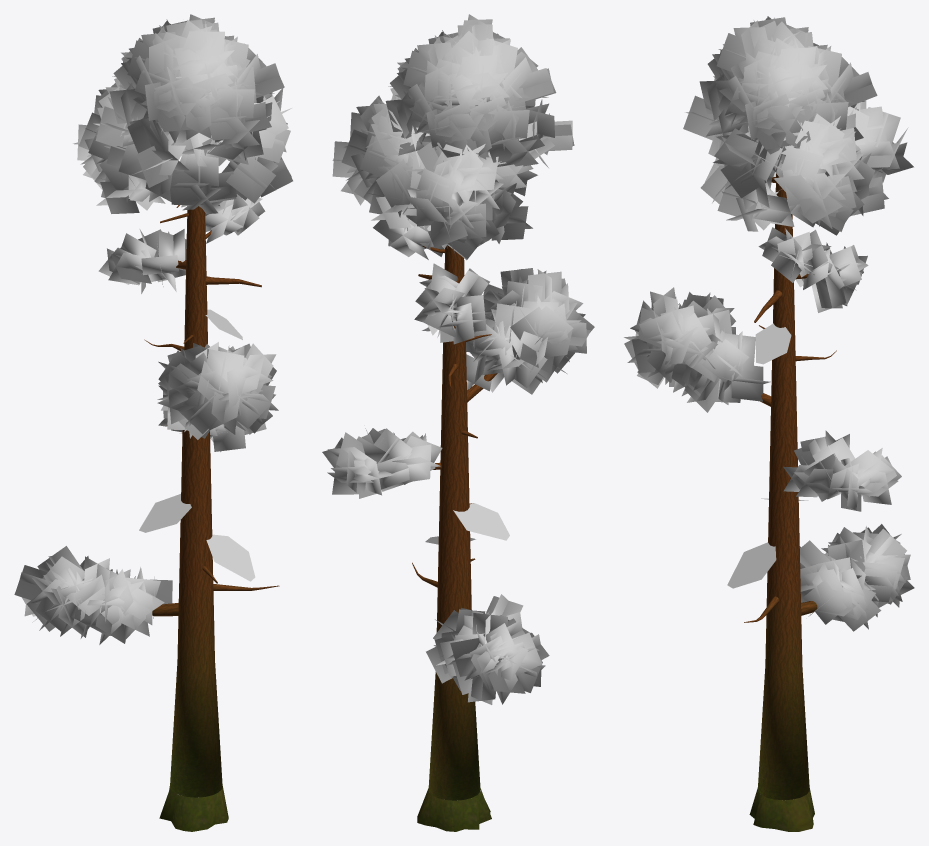
File: BigTree_CutVersion_01.fbx
3 renders of one model, left to right at view 1: azimuth 30°, elevation 25°; view 2: azimuth 150°, elevation 25°; view 3: azimuth 270°, elevation 25°, orthographic.
Parts seen in each view (by area): view 1: LeafPart, WoodPart.001; view 2: LeafPart, WoodPart.001; view 3: LeafPart, WoodPart.001.
Part boxes in pixels (x1,y1,x2,y2): LeafPart: (14, 14, 292, 797); WoodPart.001: (159, 786, 228, 831); LeafPart: (322, 14, 594, 800); WoodPart.001: (417, 788, 491, 831); LeafPart: (624, 16, 914, 800); WoodPart.001: (749, 787, 814, 831).
Size of the model in its own units: 754 by 2434 by 812.
